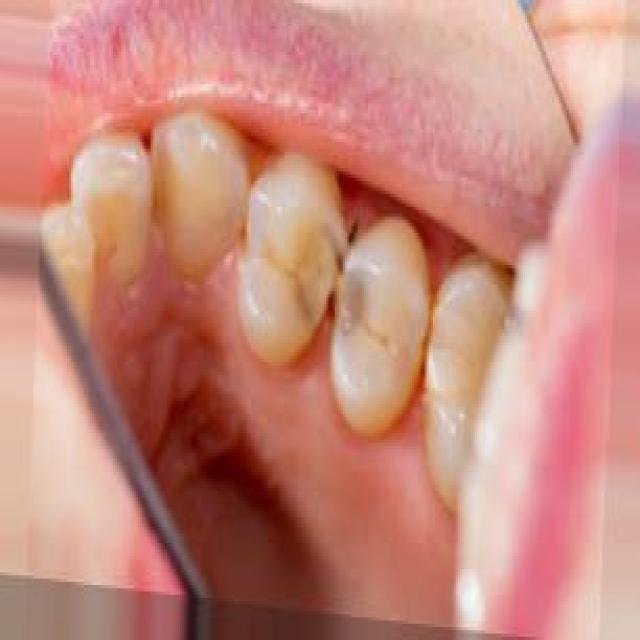caries: (280, 210, 382, 354)
